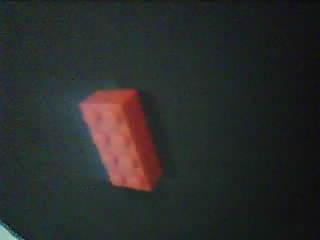lego: (76, 88, 161, 192)
